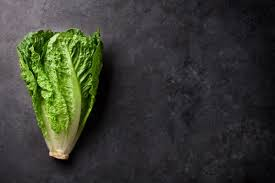lettuce: (19, 31, 105, 149)
